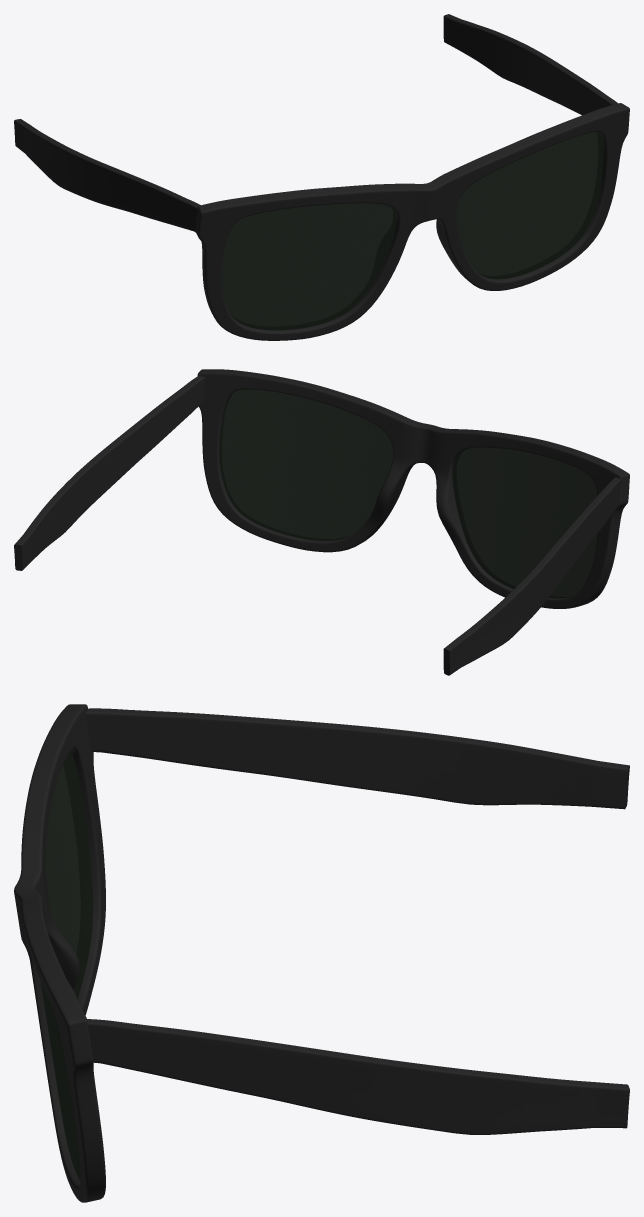
Rendered from JustinApp.glb.
The picture shows the model from 3 angles, top to bottom: view 1: azimuth 30°, elevation 25°; view 2: azimuth 150°, elevation 25°; view 3: azimuth 270°, elevation 25°; orthographic projection. The views are drawn at different scales.
Visible parts, largest first — view 1: frente, Lentes; view 2: Lentes, frente; view 3: frente, Lentes.
Part boxes in pixels (x1,y1,x2,y2): frente: (14,14,629,340); Lentes: (222,131,603,330); Lentes: (219,389,597,598); frente: (14,369,629,675); frente: (14,704,629,1202); Lentes: (40,751,93,1180).
Size of the model in its own units: 0.1561 by 0.0516 by 0.1205.
2 materials, 2 textured.
